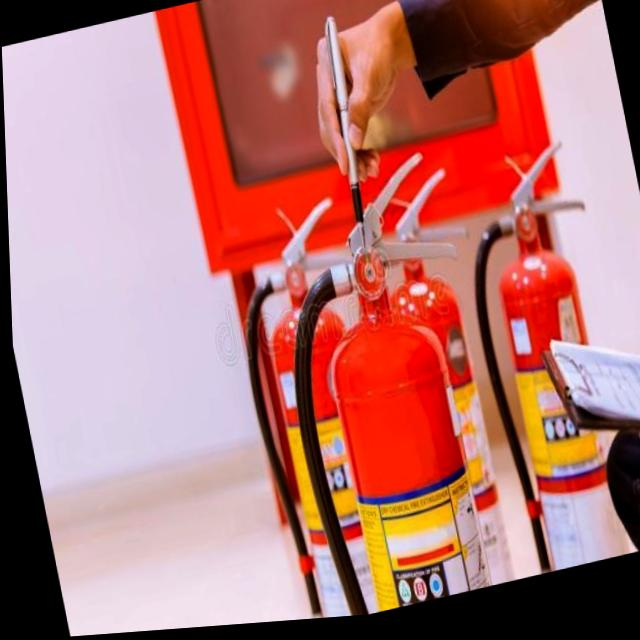FireExtinguisher: (244, 141, 521, 626), (208, 182, 419, 628), (442, 137, 640, 588)
